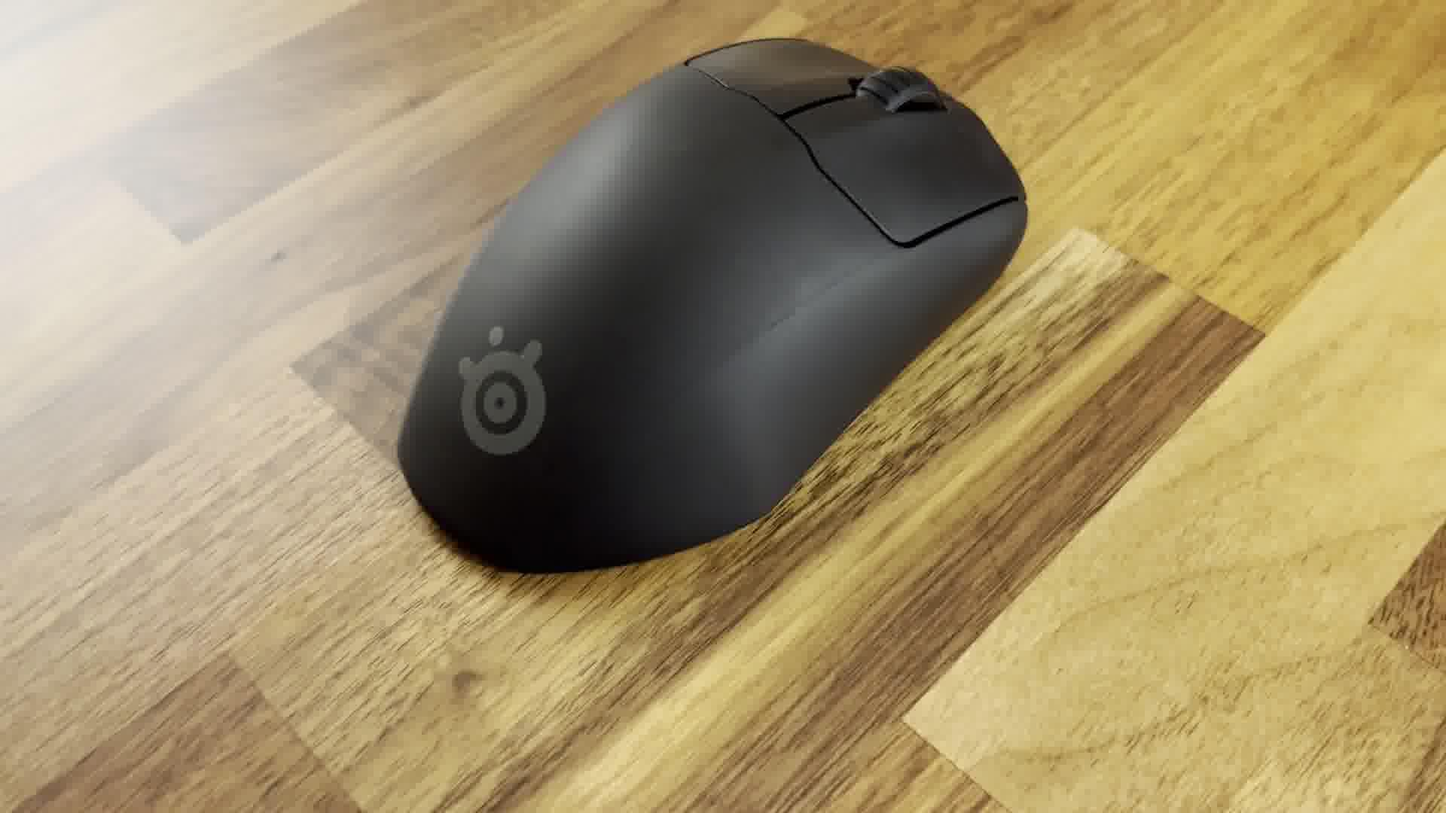mouse: (394, 32, 1034, 582)
